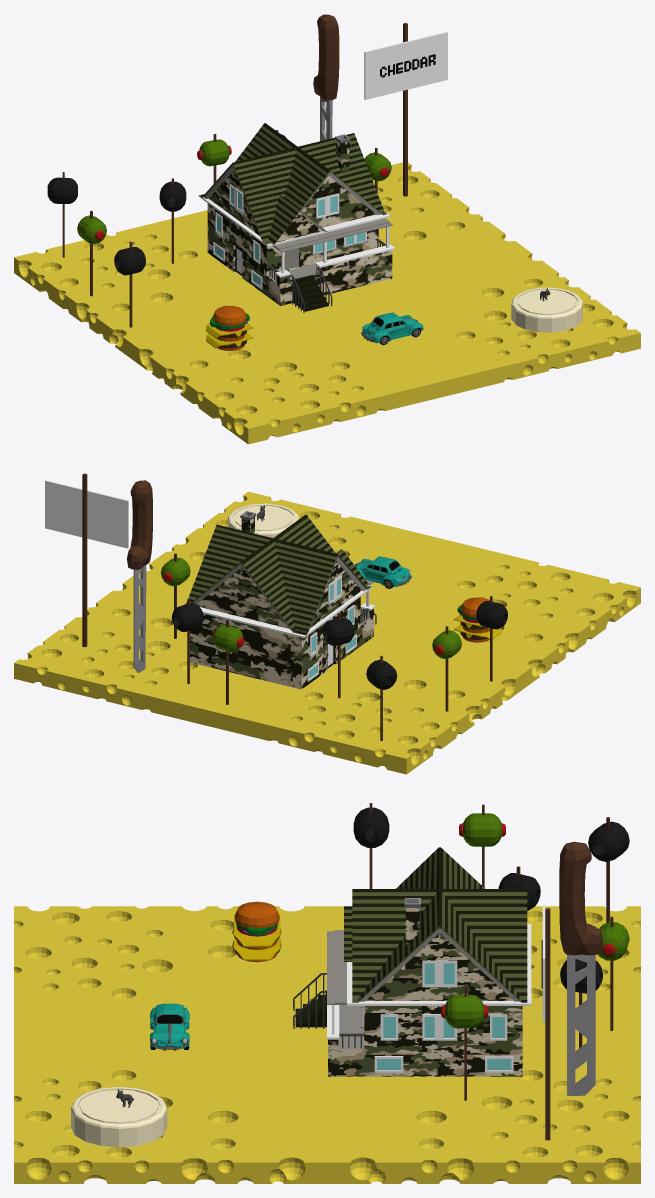
The picture shows the model from 3 angles, top to bottom: view 1: azimuth 30°, elevation 25°; view 2: azimuth 150°, elevation 25°; view 3: azimuth 270°, elevation 25°; orthographic projection. The views are drawn at different scales.
Parts seen in each view (by area): view 1: Cube.022, Cube.001, Cube.023, Cylinder.016, Cube.024, OBJRANDOM_HAMBURGER, VEHICLES_VOLKSWAGEN, Sphere.017, Sphere.016, Sphere.020, Sphere.018, Sphere.022 (+1 smaller); view 2: Cube.022, Cube.001, Cube.023, Cube.024, Cylinder.016, VEHICLES_VOLKSWAGEN, OBJRANDOM_HAMBURGER, Sphere.017, Sphere.020, Sphere.021, Sphere.016, Sphere.018 (+2 smaller); view 3: Cube.022, Cube.001, Cube.024, Cylinder.016, OBJRANDOM_HAMBURGER, Cube.023, VEHICLES_VOLKSWAGEN, Sphere.019, Sphere.016, Sphere.018, Sphere.017, Sphere.022 (+2 smaller).
Part boxes in pixels (bbox=[...]): Cube.022: bbox=[14, 162, 640, 444]; Cube.001: bbox=[198, 123, 395, 312]; Cube.023: bbox=[364, 23, 447, 196]; Cylinder.016: bbox=[511, 287, 582, 332]; Cube.024: bbox=[313, 14, 339, 141]; OBJRANDOM_HAMBURGER: bbox=[206, 305, 253, 350]; VEHICLES_VOLKSWAGEN: bbox=[361, 312, 423, 345]; Sphere.017: bbox=[114, 242, 145, 327]; Sphere.016: bbox=[47, 172, 77, 257]; Sphere.020: bbox=[159, 178, 186, 263]; Sphere.018: bbox=[77, 210, 106, 296]; Sphere.022: bbox=[197, 134, 231, 183]; Cube.022: bbox=[14, 491, 640, 774]; Cube.001: bbox=[184, 511, 376, 689]; Cube.023: bbox=[45, 473, 128, 647]; Cube.024: bbox=[127, 480, 152, 672]; Cylinder.016: bbox=[228, 503, 298, 537]; VEHICLES_VOLKSWAGEN: bbox=[354, 556, 411, 588]; OBJRANDOM_HAMBURGER: bbox=[453, 597, 501, 642]; Sphere.017: bbox=[476, 596, 507, 681]; Sphere.020: bbox=[322, 612, 354, 698]; Sphere.021: bbox=[171, 598, 203, 683]; Sphere.016: bbox=[366, 655, 397, 741]; Sphere.018: bbox=[432, 626, 461, 711]; Cube.022: bbox=[14, 906, 640, 1183]; Cube.001: bbox=[293, 847, 531, 1076]; Cube.024: bbox=[559, 841, 602, 1095]; Cylinder.016: bbox=[71, 1086, 167, 1147]; OBJRANDOM_HAMBURGER: bbox=[232, 901, 281, 962]; Cube.023: bbox=[541, 904, 550, 1140]; VEHICLES_VOLKSWAGEN: bbox=[150, 1003, 189, 1050]; Sphere.019: bbox=[441, 986, 487, 1100]; Sphere.016: bbox=[588, 817, 629, 922]; Sphere.018: bbox=[459, 804, 505, 887]; Sphere.017: bbox=[353, 803, 389, 888]; Sphere.022: bbox=[598, 916, 629, 1030].
Size of the model in its own units: 3917 by 2007 by 4000.
Materials: 39 (5 with a texture image).
